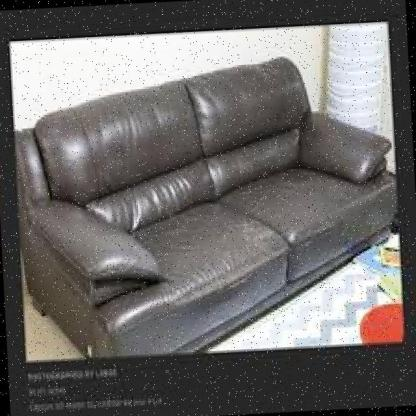Sofa: (11, 41, 406, 361)
